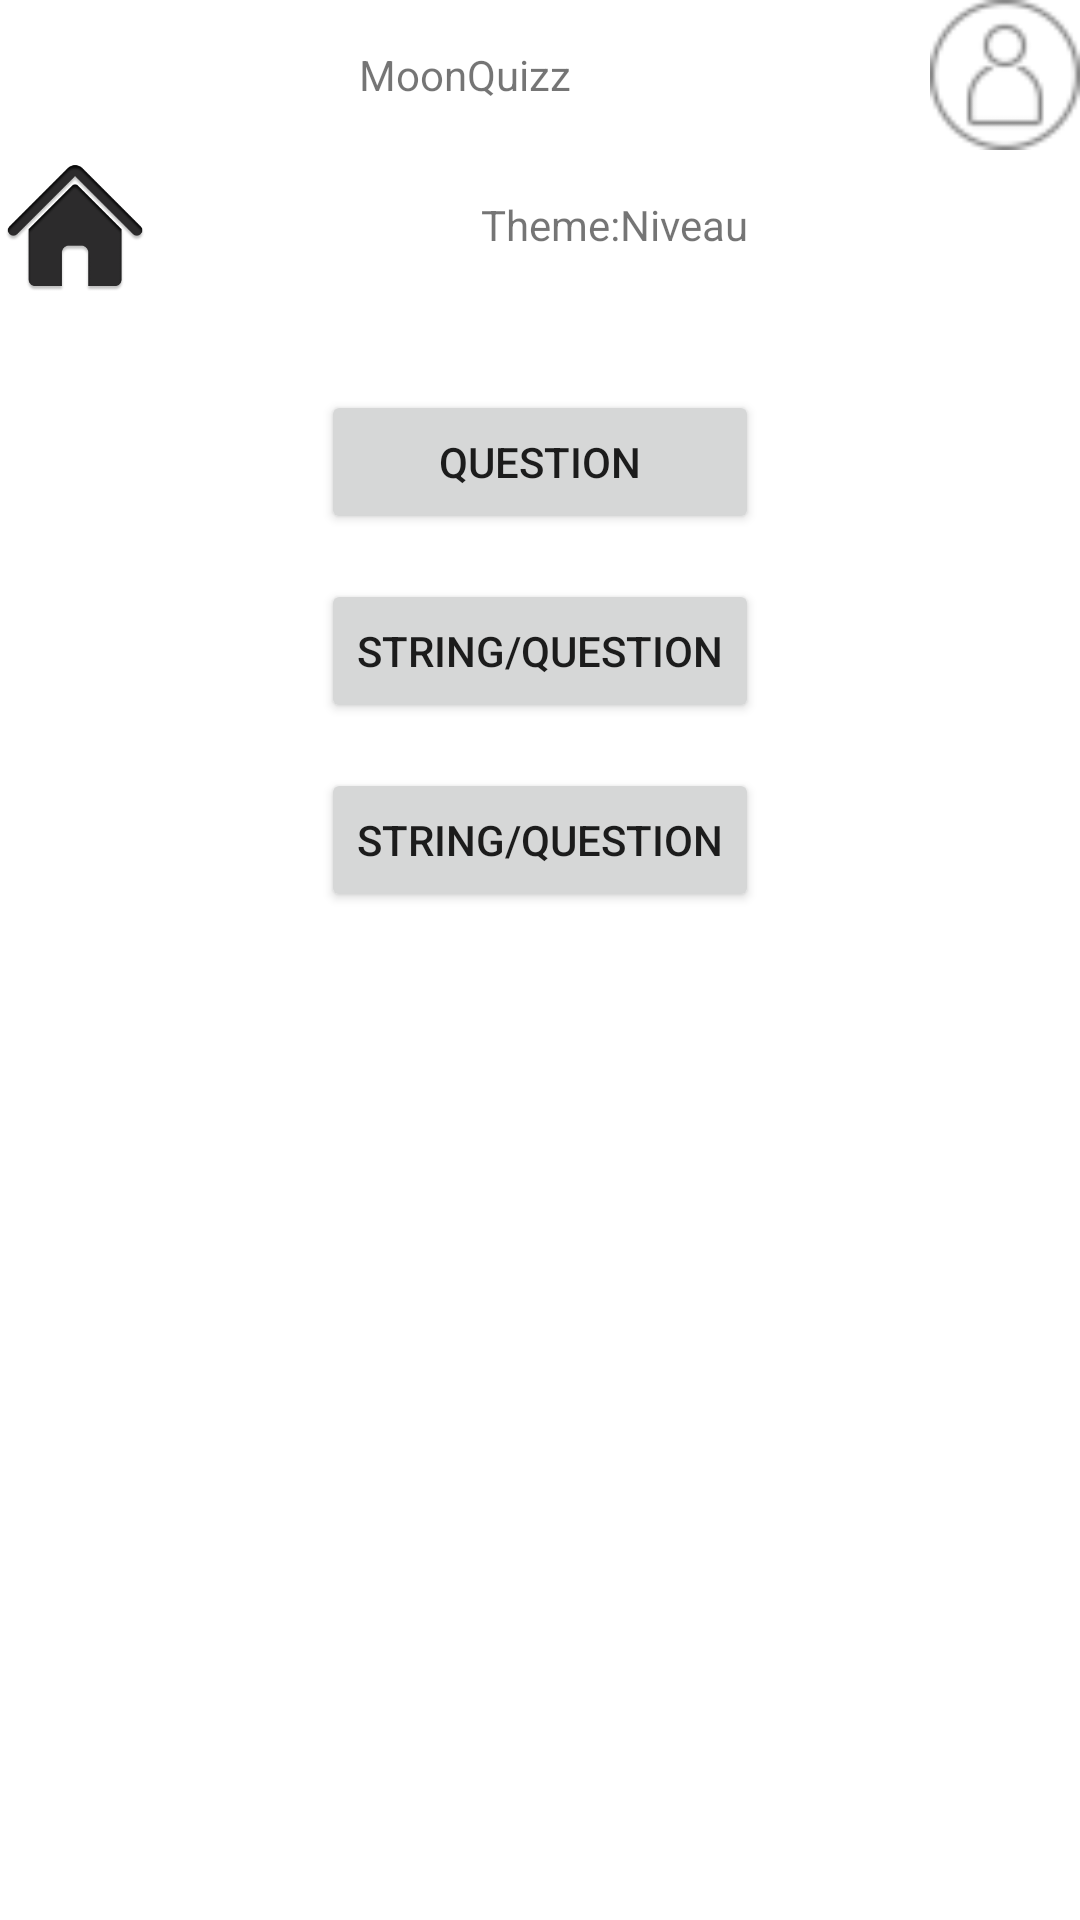

Screen size 1080px×1920px. Icon name, then its center in pixels as [x,y]:
home: [75,227]
